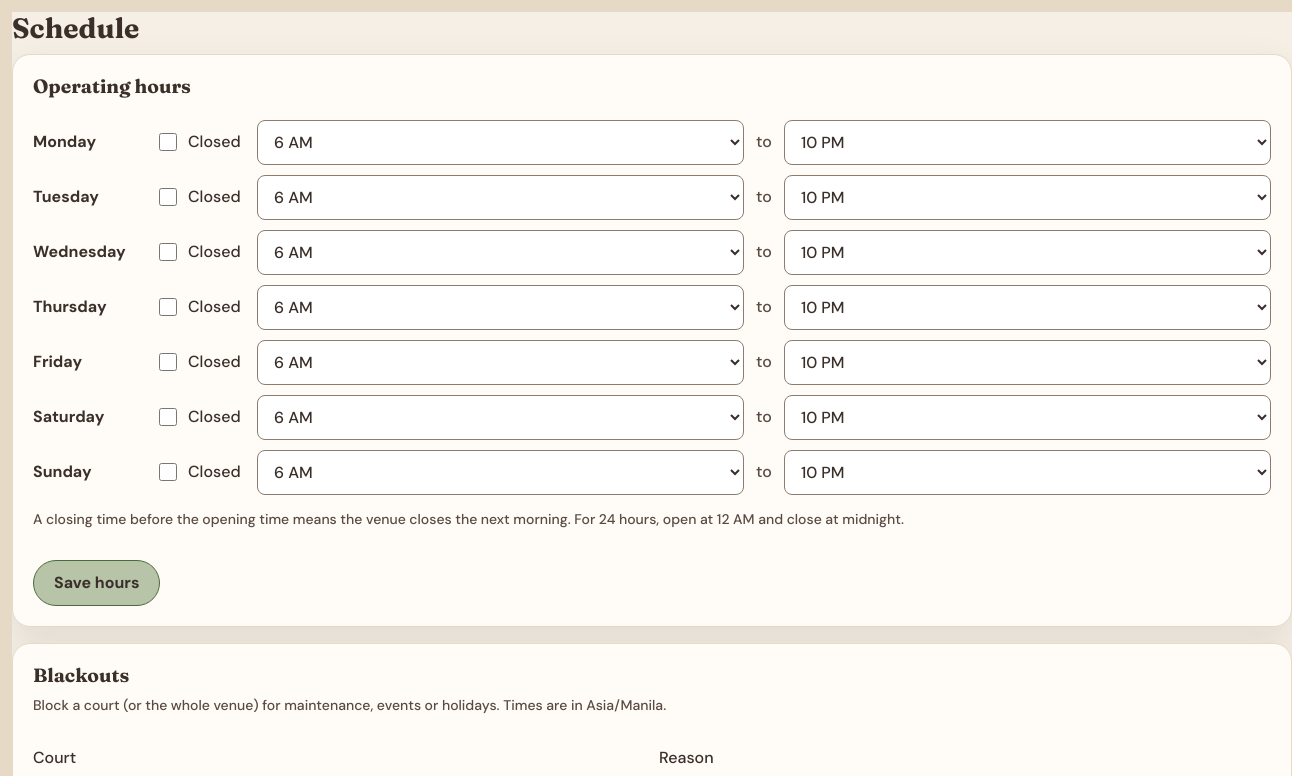
Test: SchedulePage operating hours › shows the server's answer when saving fails
Click the button "Save hours" at {"x": 97, "y": 583}, box [33,560,160,606]
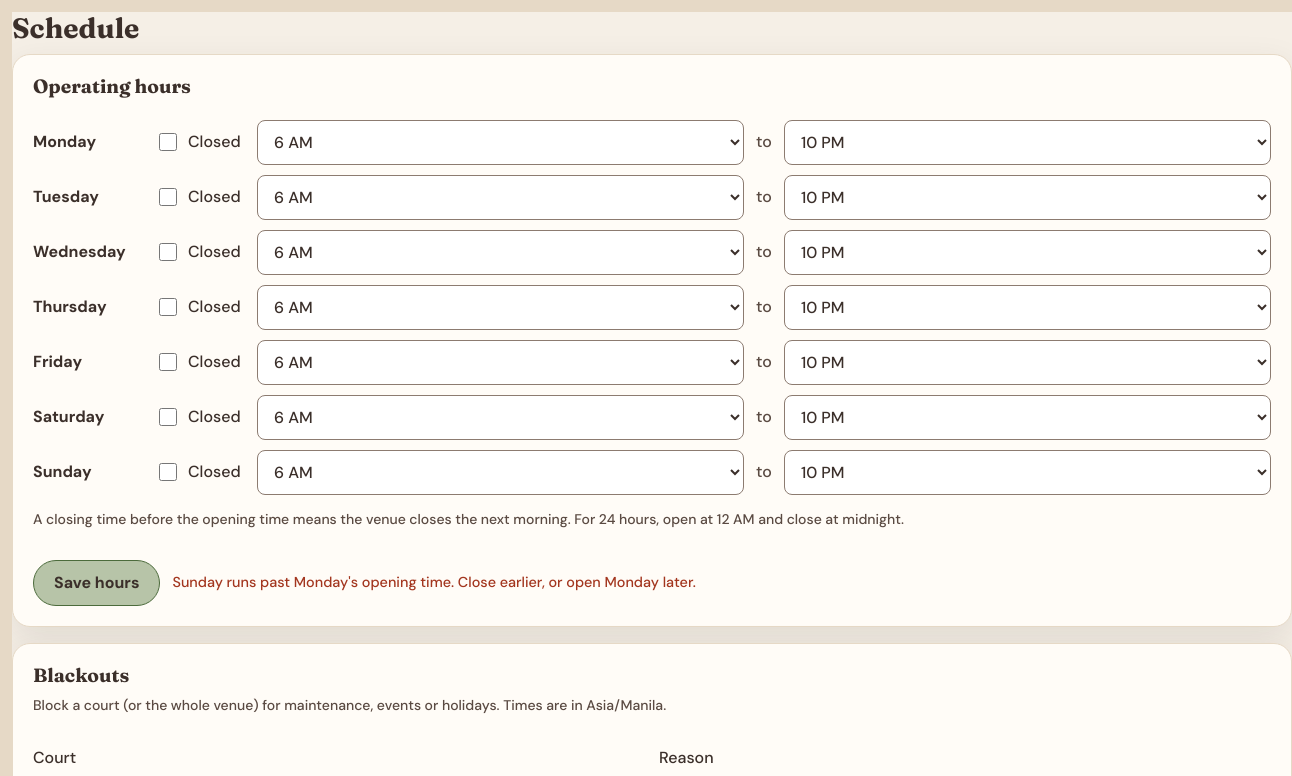
Now the text "Sunday runs past Monday's opening time. Close earlier, or open Monday later." is shown, box [172,572,696,593]
